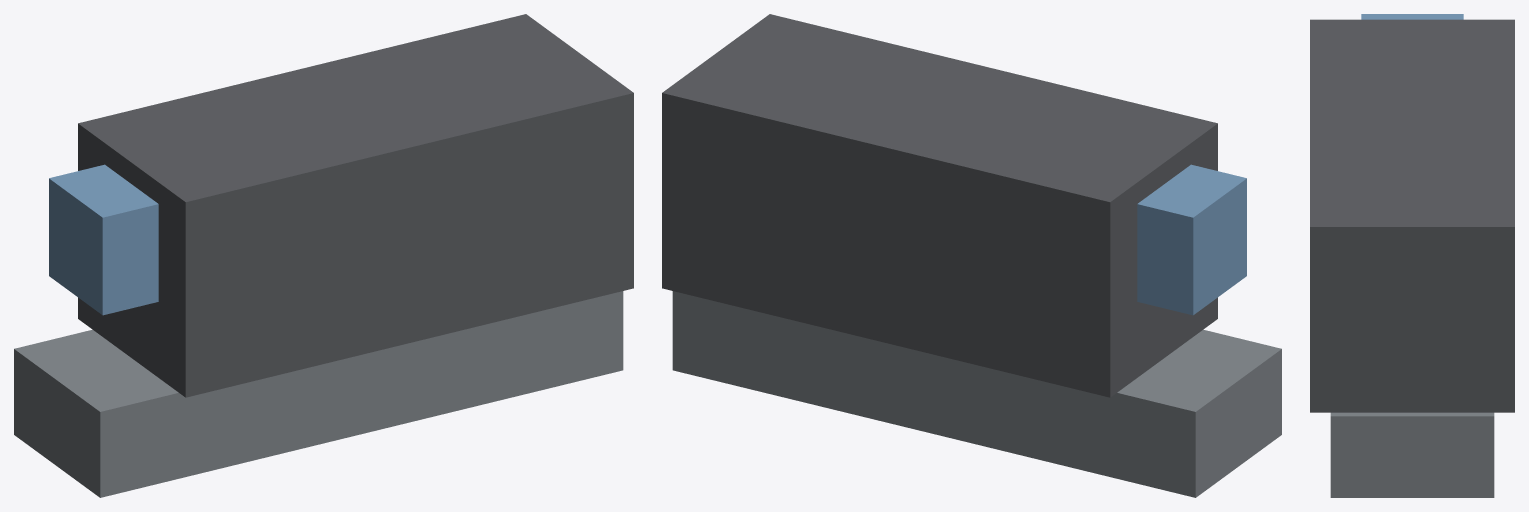
Rendered from metaverse-smart-link-launcher-optic.gltf.
The picture shows the model from 3 angles, left to right: view 1: azimuth 30°, elevation 25°; view 2: azimuth 150°, elevation 25°; view 3: azimuth 270°, elevation 25°; orthographic projection. The views are drawn at different scales.
Parts seen in each view (by area): view 1: metaverse_smart_link_launcher_optic_body, metaverse_smart_link_launcher_optic_base, metaverse_smart_link_launcher_optic_sensor; view 2: metaverse_smart_link_launcher_optic_body, metaverse_smart_link_launcher_optic_base, metaverse_smart_link_launcher_optic_sensor; view 3: metaverse_smart_link_launcher_optic_body, metaverse_smart_link_launcher_optic_base, metaverse_smart_link_launcher_optic_sensor.
Boxes of the visible parts, x1,y1,x2,y2 form: metaverse_smart_link_launcher_optic_body: (78, 14, 633, 397); metaverse_smart_link_launcher_optic_base: (14, 291, 623, 497); metaverse_smart_link_launcher_optic_sensor: (49, 164, 158, 315); metaverse_smart_link_launcher_optic_body: (662, 14, 1217, 397); metaverse_smart_link_launcher_optic_base: (672, 291, 1281, 497); metaverse_smart_link_launcher_optic_sensor: (1137, 164, 1246, 315); metaverse_smart_link_launcher_optic_body: (1310, 19, 1514, 412); metaverse_smart_link_launcher_optic_base: (1330, 412, 1494, 497); metaverse_smart_link_launcher_optic_sensor: (1361, 14, 1463, 19).
Size of the model in its own units: 0.14 by 0.073 by 0.05.
